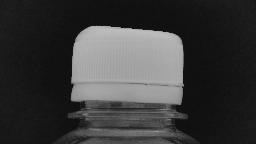Loose Cap: (59, 78, 195, 122)
